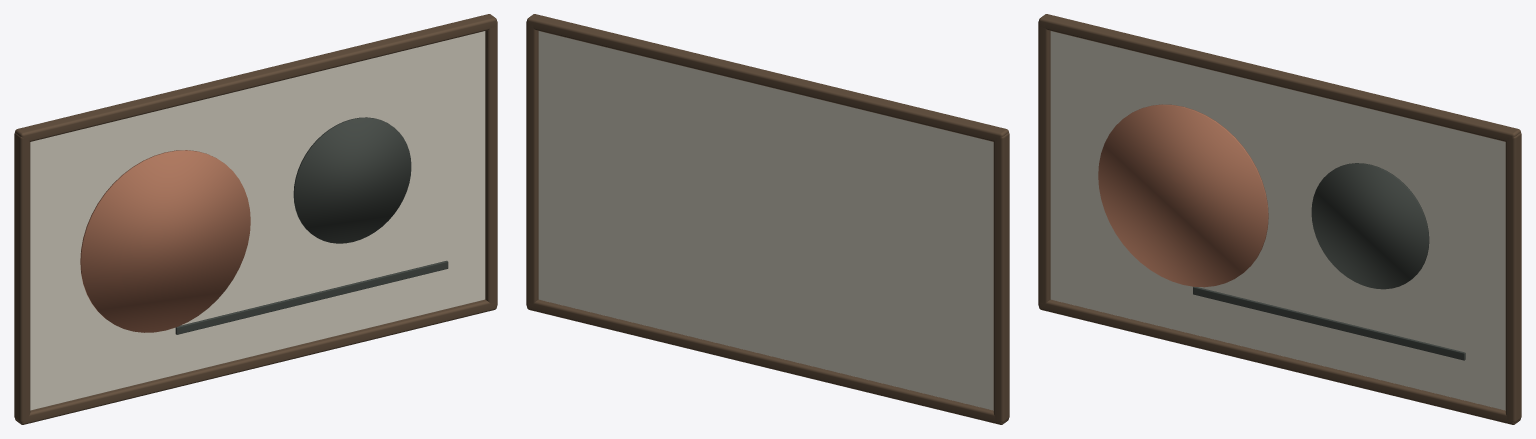
The model's file is framed-art.glb.
3 views of the same model, side by side, from view 1: azimuth 30°, elevation 25°; view 2: azimuth 150°, elevation 25°; view 3: azimuth 330°, elevation 25° (orthographic).
Visible parts, largest first — view 1: Canvas; view 2: Canvas; view 3: Canvas.
Boxes of the visible parts, <box> form: Canvas: <box>14,14,497,424</box>; Canvas: <box>526,14,1009,424</box>; Canvas: <box>1038,14,1521,424</box>.
Size of the model in its own units: 1.63 by 0.955 by 0.0465.
